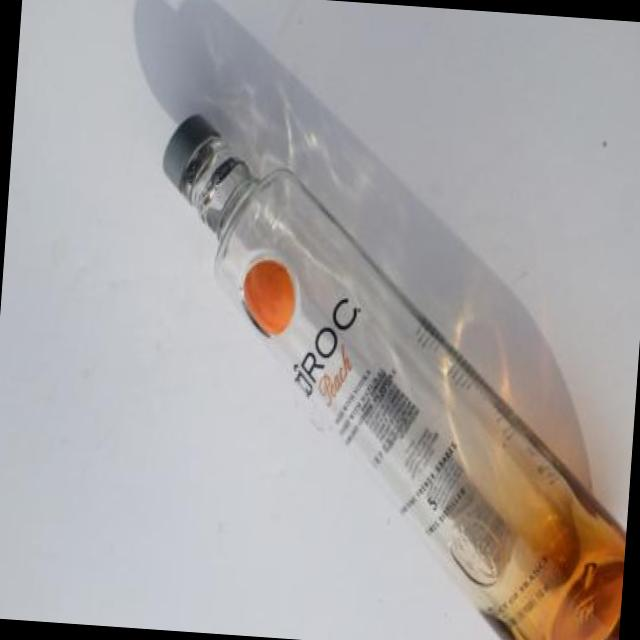chai_thuy_tinh: (166, 119, 626, 640)
